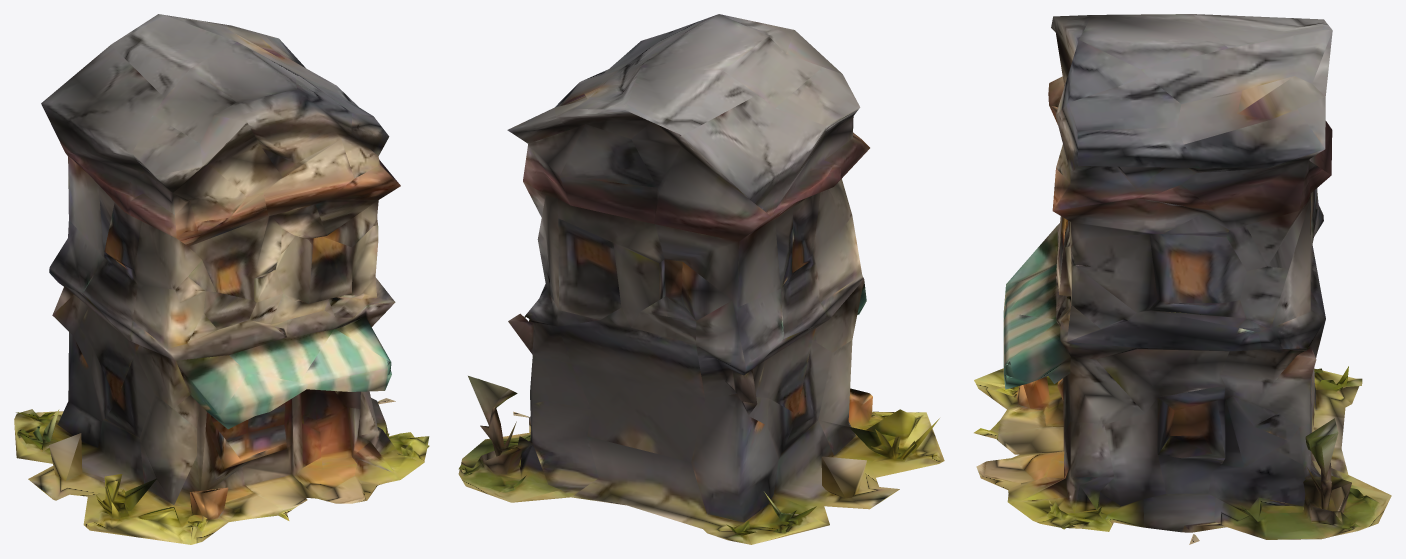
The model's file is p8shop.glb.
3 renders of one model, left to right at view 1: azimuth 30°, elevation 25°; view 2: azimuth 150°, elevation 25°; view 3: azimuth 270°, elevation 25°, orthographic. The views are drawn at different scales.
Parts seen in each view (by area): view 1: tripo_node_ad149a50-904f-4bad-9f76-81a6969eab8f; view 2: tripo_node_ad149a50-904f-4bad-9f76-81a6969eab8f; view 3: tripo_node_ad149a50-904f-4bad-9f76-81a6969eab8f.
Part boxes in pixels (x1=…): tripo_node_ad149a50-904f-4bad-9f76-81a6969eab8f: x1=14, y1=14, x2=429, y2=544; tripo_node_ad149a50-904f-4bad-9f76-81a6969eab8f: x1=458, y1=14, x2=944, y2=544; tripo_node_ad149a50-904f-4bad-9f76-81a6969eab8f: x1=974, y1=14, x2=1391, y2=544.
Size of the model in its own units: 0.9431 by 0.9571 by 0.8546.
Materials: 1 (1 with a texture image).
